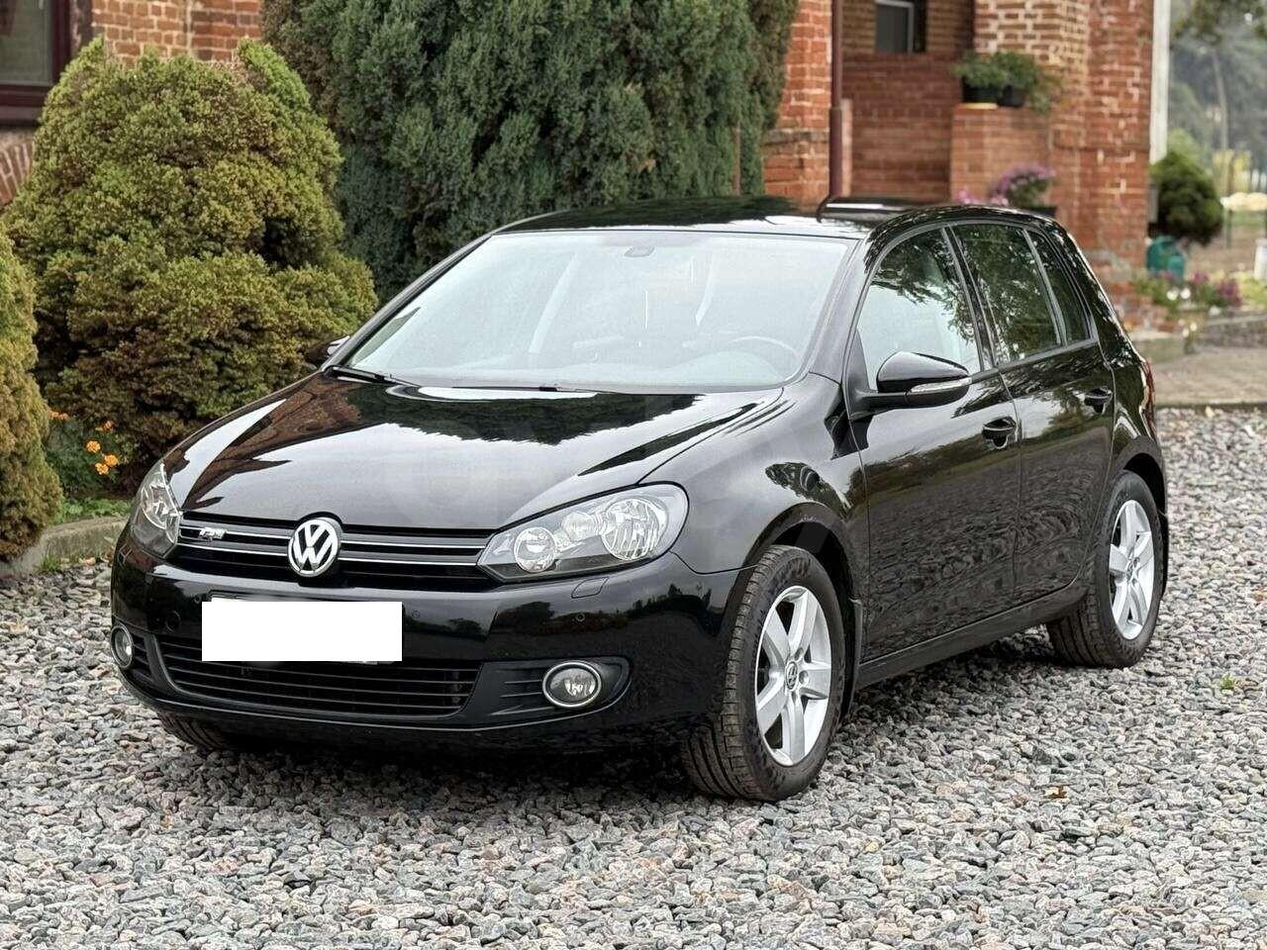Golf_2008-2013: (102, 188, 1184, 811)
